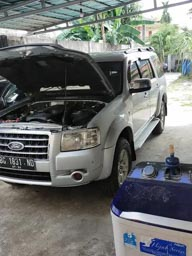plat: (1, 154, 36, 166)
